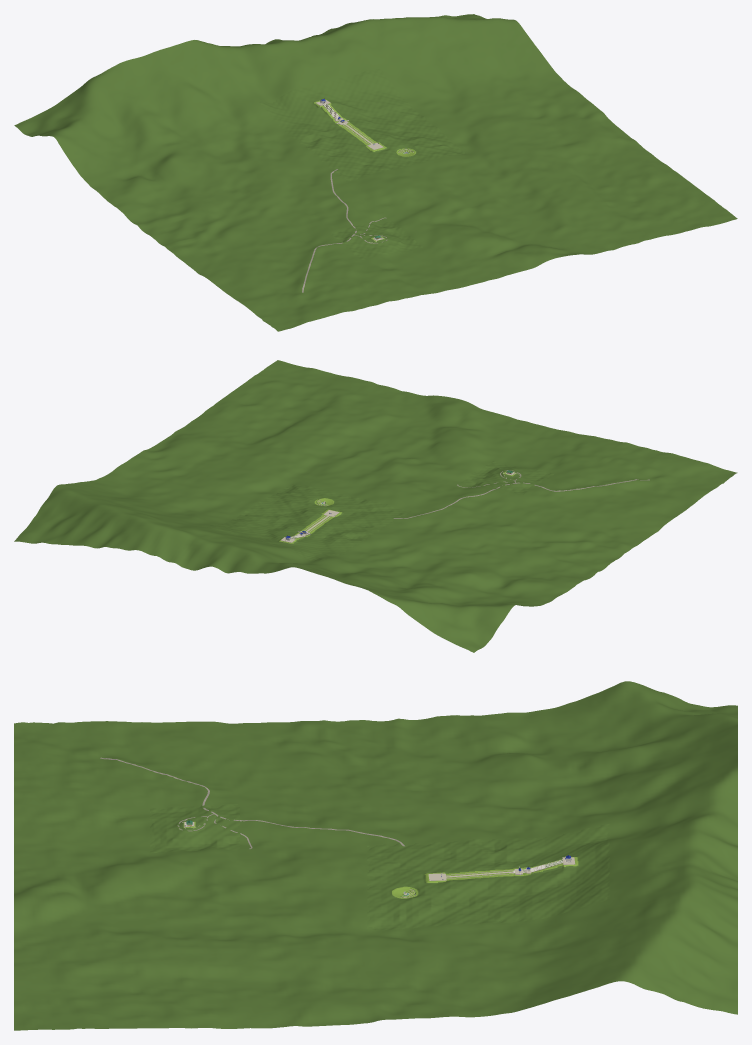
The model's file is static.glb.
3 views of the same model, one above another, from view 1: azimuth 30°, elevation 25°; view 2: azimuth 150°, elevation 25°; view 3: azimuth 270°, elevation 25° (orthographic). The views are drawn at different scales.
Visible parts, largest first — view 1: Ground, Mausoleum axis; view 2: Ground; view 3: Ground, Mausoleum axis, Meiling.
Part boxes in pixels (left/top/right/bottom): Ground: left=14, top=14, right=737, bottom=331; Mausoleum axis: left=316, top=98, right=413, bottom=242; Ground: left=14, top=360, right=737, bottom=652; Ground: left=14, top=681, right=737, bottom=1030; Mausoleum axis: left=182, top=819, right=575, bottom=897; Meiling: left=100, top=757, right=404, bottom=848.
Bounding box in the file's own units: 3552 × 411 × 3528.
